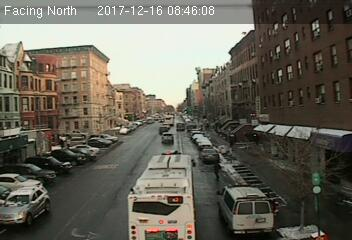bus: (128, 152, 201, 240)
car: (1, 183, 49, 226), (201, 149, 220, 161), (160, 133, 174, 143)
pedestrian: (213, 160, 225, 182)
police: (215, 181, 275, 236)
